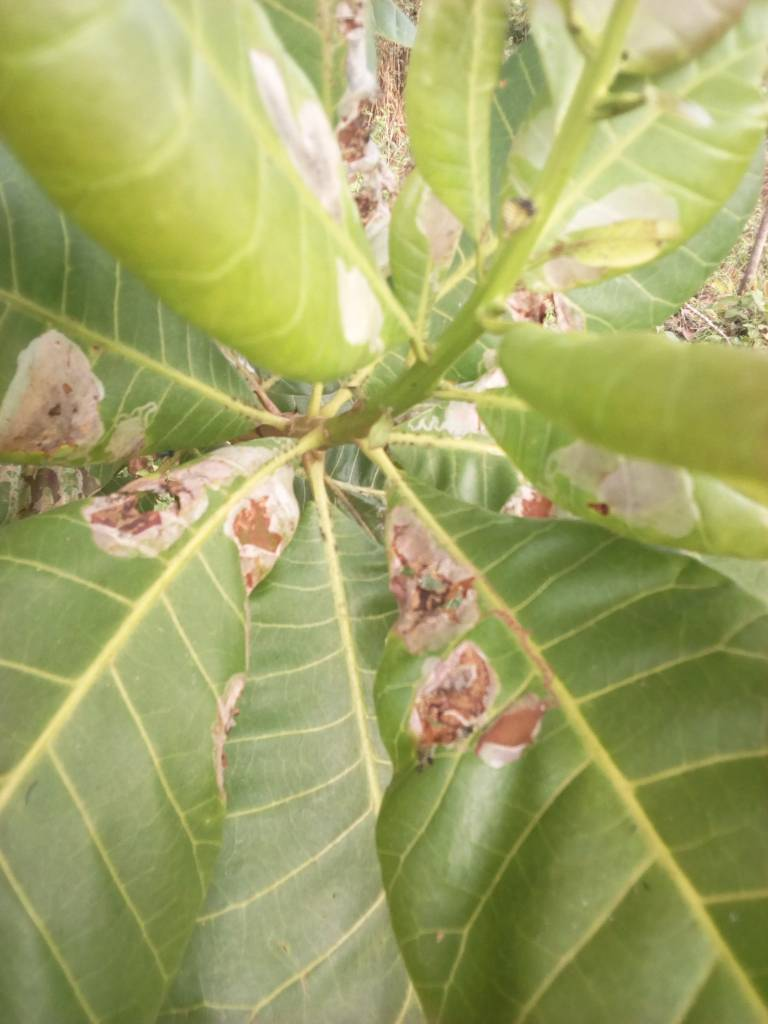Dysdercus wolkerii: (375, 453, 768, 1017)
